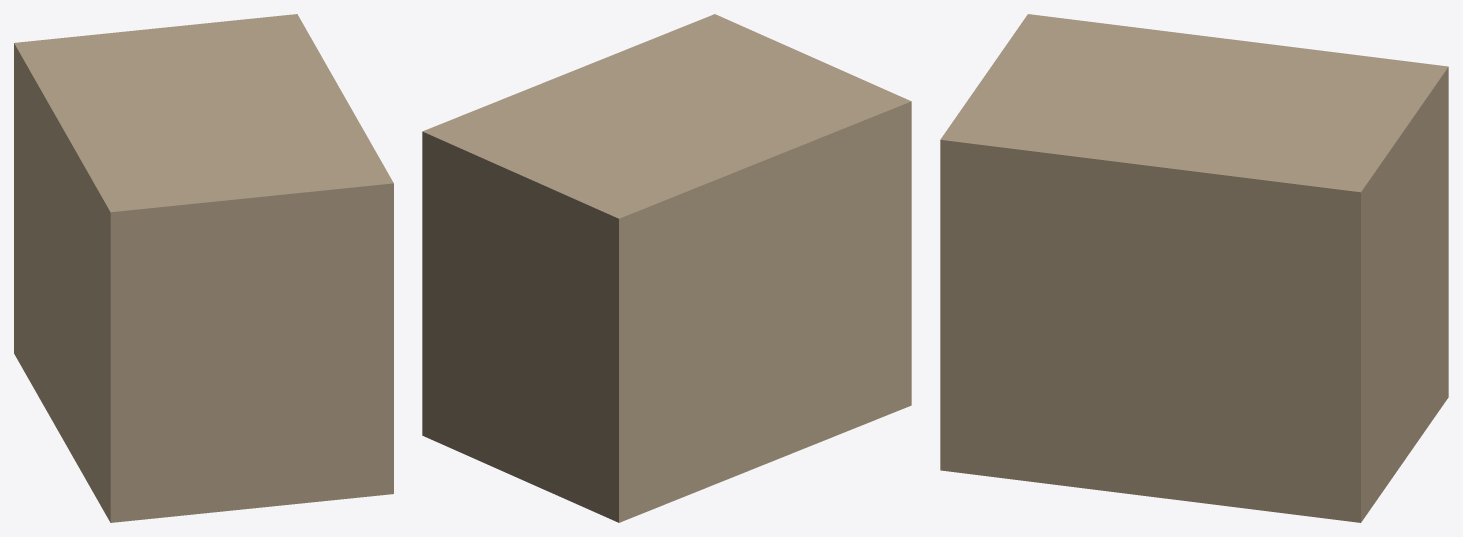
The model's file is bld_101374749.dae.
The picture shows the model from 3 angles, left to right: view 1: azimuth 30°, elevation 25°; view 2: azimuth 150°, elevation 25°; view 3: azimuth 270°, elevation 25°; orthographic projection. The views are drawn at different scales.
Visible parts, largest first — view 1: bld_101374749; view 2: bld_101374749; view 3: bld_101374749.
Part boxes in pixels (box(x1,y1,x2,y2)): bld_101374749: box(14, 14, 393, 522); bld_101374749: box(422, 14, 911, 522); bld_101374749: box(940, 14, 1448, 522).
Bounding box in the file's own units: 9.25 × 11.15 × 8.
